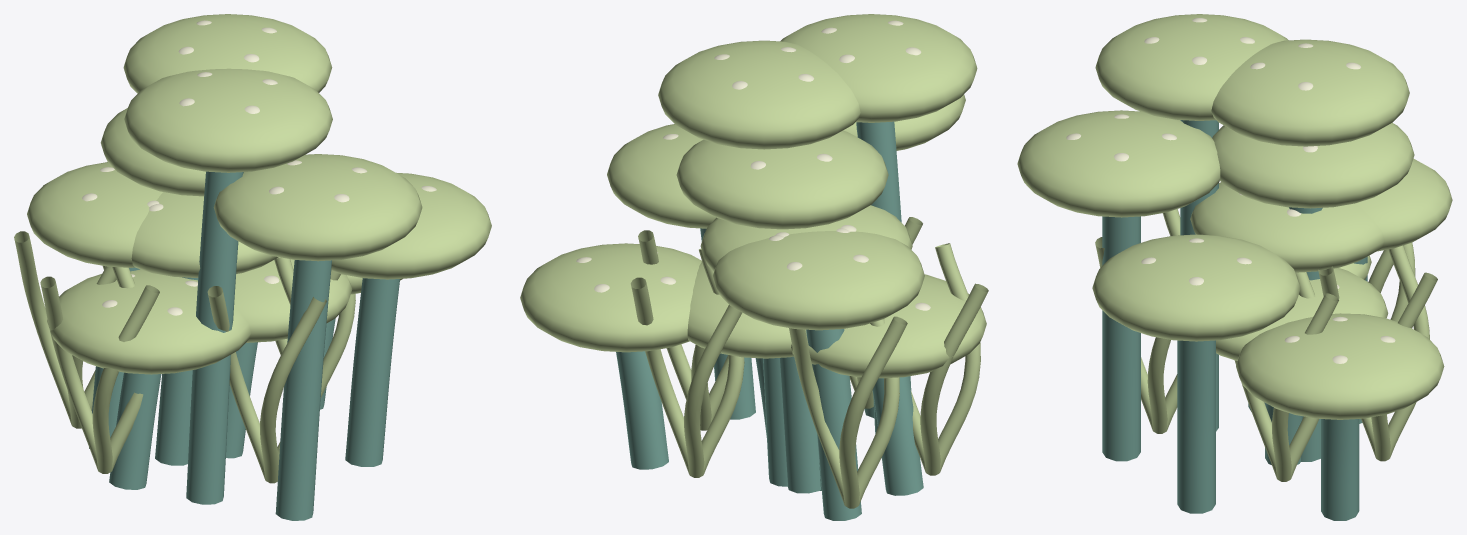
The model's file is bio_spore_fungus_24_near.glb.
The picture shows the model from 3 angles, left to right: view 1: azimuth 30°, elevation 25°; view 2: azimuth 150°, elevation 25°; view 3: azimuth 270°, elevation 25°; orthographic projection.
Parts seen in each view (by area): view 1: Thick umbrella cap.007, Thick umbrella cap.002, Thick umbrella cap.004, Thick umbrella cap.003, Curved stipe.007, Thick umbrella cap.001, Curved stipe.002, Thick umbrella cap.005, Curved stipe.005, Spiral filament.012, Spiral filament.006, Thick umbrella cap.009 (+8 smaller); view 2: Thick umbrella cap.003, Thick umbrella cap.001, Thick umbrella cap.006, Thick umbrella cap.008, Thick umbrella cap.007, Thick umbrella cap.004, Spiral filament.003, Spiral filament.009, Thick umbrella cap.005, Spiral filament.012, Curved stipe.008, Thick umbrella cap (+9 smaller); view 3: Thick umbrella cap.005, Thick umbrella cap.002, Thick umbrella cap.008, Thick umbrella cap.003, Thick umbrella cap.007, Thick umbrella cap.006, Thick umbrella cap.009, Curved stipe.002, Curved stipe.005, Thick umbrella cap.001, Spiral filament.009, Curved stipe.008 (+6 smaller).
Boxes of the visible parts, x1,y1,x2,y2 form: Thick umbrella cap.007: (124, 68, 332, 172); Thick umbrella cap.002: (213, 154, 422, 261); Thick umbrella cap.004: (47, 269, 251, 374); Thick umbrella cap.003: (123, 14, 332, 93); Curved stipe.007: (186, 171, 243, 504); Thick umbrella cap.001: (27, 162, 162, 267); Curved stipe.002: (275, 260, 331, 520); Thick umbrella cap.005: (331, 172, 491, 279); Curved stipe.005: (345, 278, 399, 466); Spiral filament.012: (40, 267, 159, 473); Spiral filament.006: (207, 257, 326, 483); Thick umbrella cap.009: (131, 192, 278, 277); Thick umbrella cap.003: (658, 40, 860, 149); Thick umbrella cap.001: (713, 231, 924, 330); Thick umbrella cap.006: (676, 130, 888, 229); Thick umbrella cap.008: (520, 243, 701, 352); Thick umbrella cap.007: (780, 14, 977, 122); Thick umbrella cap.004: (791, 274, 986, 378); Spiral filament.003: (789, 316, 907, 508); Spiral filament.009: (630, 248, 744, 477); Thick umbrella cap.005: (607, 124, 716, 228); Spiral filament.012: (910, 243, 988, 475); Curved stipe.008: (616, 351, 668, 469); Thick umbrella cap: (687, 261, 793, 358); Thick umbrella cap.005: (1092, 234, 1300, 341); Thick umbrella cap.002: (1017, 110, 1220, 217); Thick umbrella cap.008: (1236, 313, 1444, 419); Thick umbrella cap.003: (1211, 39, 1409, 146); Thick umbrella cap.007: (1095, 14, 1288, 120); Thick umbrella cap.006: (1212, 122, 1414, 208); Thick umbrella cap.009: (1190, 182, 1384, 272); Curved stipe.002: (1102, 216, 1140, 461); Curved stipe.005: (1177, 340, 1215, 513); Thick umbrella cap.001: (1356, 158, 1452, 251); Spiral filament.009: (1318, 245, 1437, 461); Curved stipe.008: (1321, 419, 1359, 520).
Bounding box in the file's own units: 2.1 × 1.97 × 1.92.
